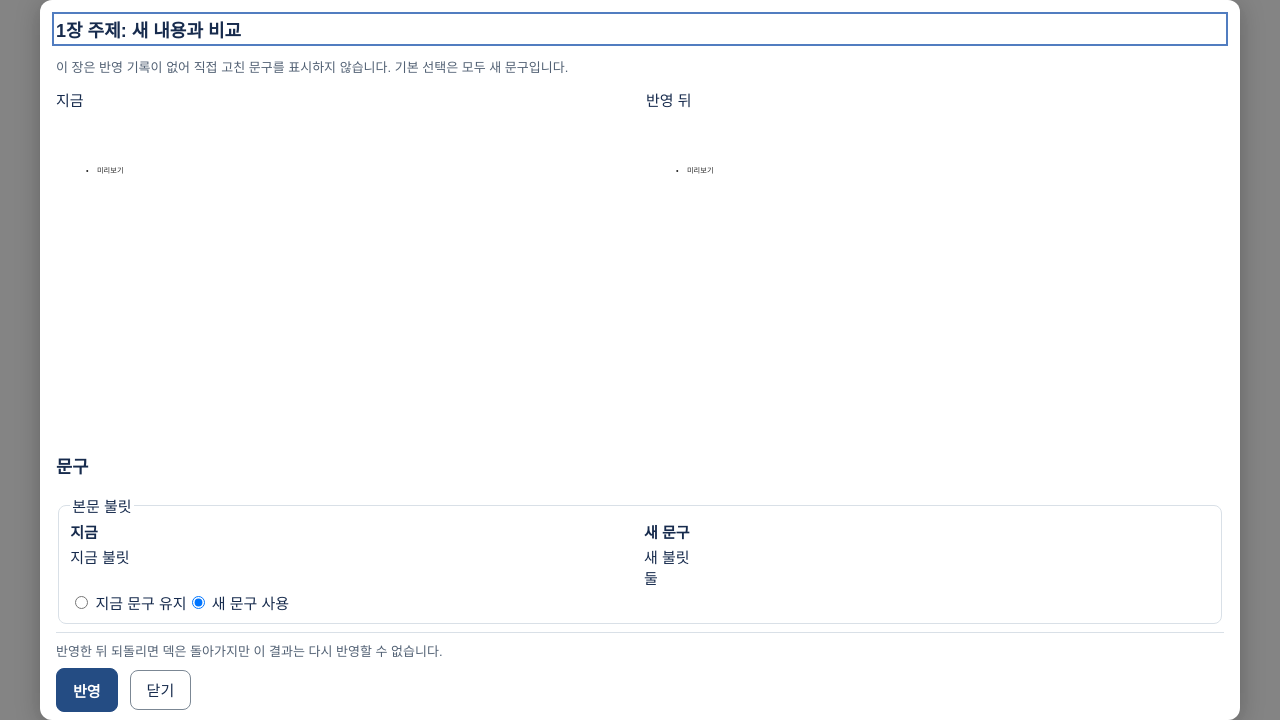
Test: 늦게 도착한 이전 미리 보기 응답은 새 선택의 결과를 덮지 않는다 (리뷰 V9)
The image size is (1280, 720).
Click the radio button labelled "지금 문구 유지". click: (82, 603)
box: x1=75 y1=596 x2=88 y2=609
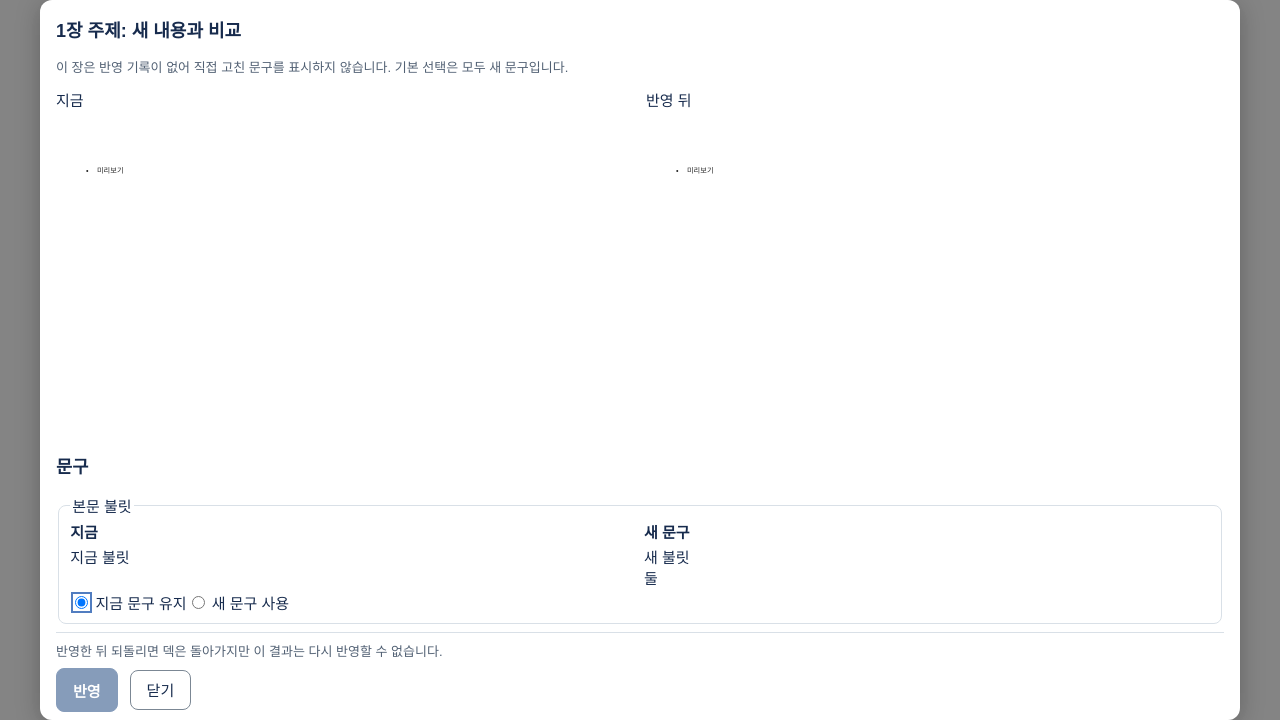
Click the radio button labelled "새 문구 사용". click: (198, 603)
box: x1=192 y1=596 x2=205 y2=609
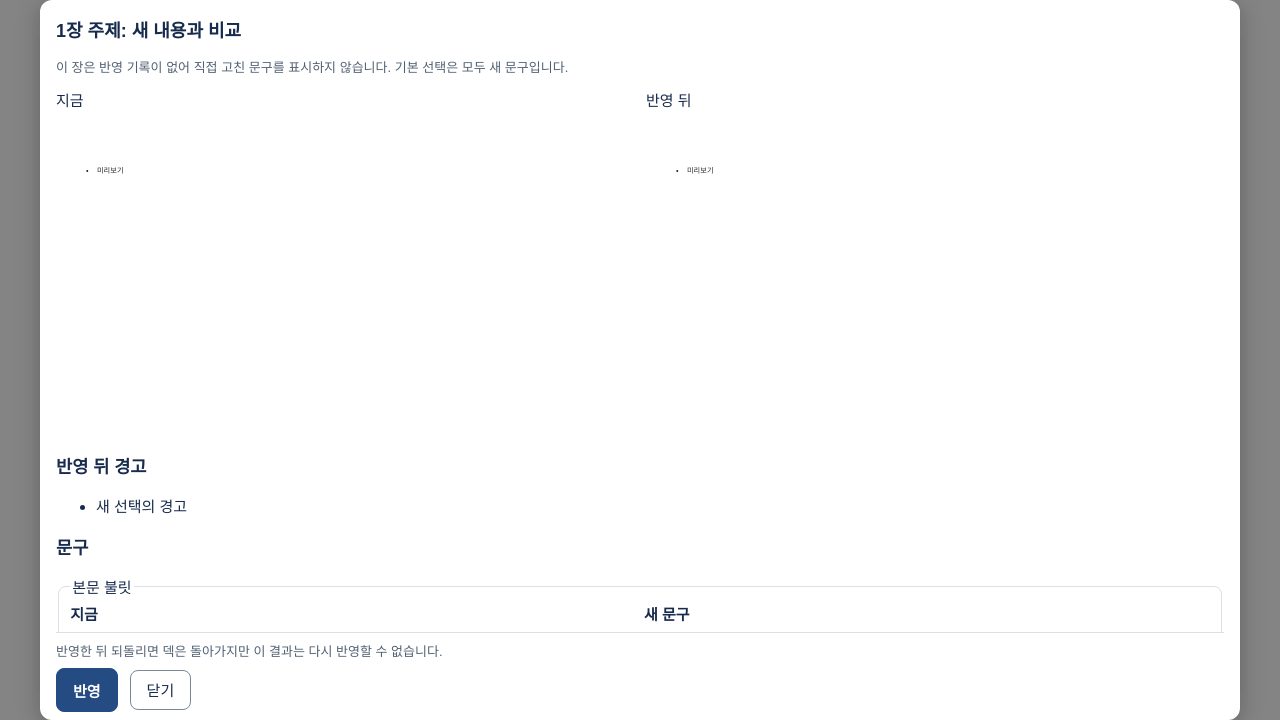
Check: the radio button labelled "새 문구 사용" is checked, box x1=192 y1=678 x2=205 y2=690
Check: the list item "새 선택의 경고" is shown, box x1=96 y1=498 x2=187 y2=515
